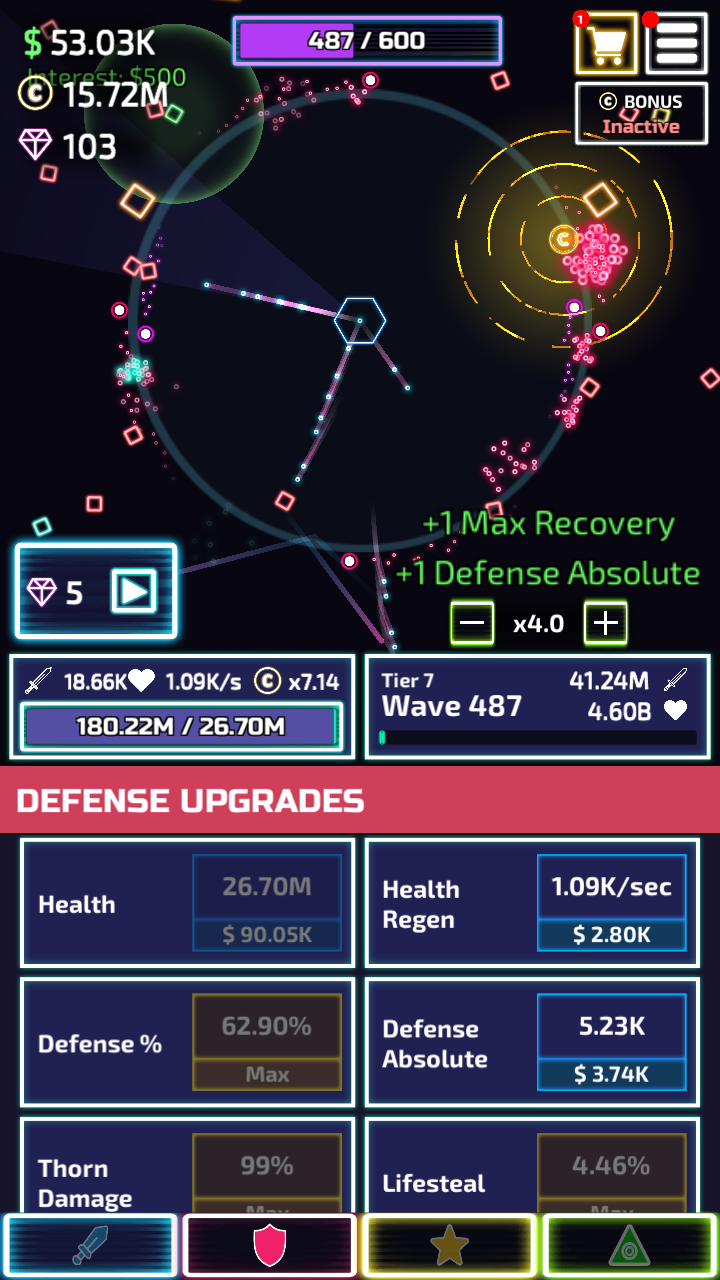B_Gem_Ad: (14, 540, 181, 638)
B_Menu_Action_Required: (638, 7, 704, 72)
B_Menu_Closed: (572, 10, 708, 74)
B_Shop_Action_Required: (570, 14, 637, 78)
B_Slot: (17, 837, 353, 959), (366, 840, 696, 962), (366, 978, 696, 1100), (21, 978, 353, 1099), (365, 1119, 695, 1209), (20, 1120, 347, 1210)
B_Slot_Button: (188, 859, 345, 954), (532, 997, 688, 1092), (534, 857, 688, 953), (189, 999, 343, 1090), (533, 1136, 688, 1209), (187, 1136, 340, 1208)
B_Slot_Label: (369, 1008, 505, 1080), (23, 1148, 146, 1214), (29, 1021, 173, 1072), (372, 870, 473, 937), (369, 1155, 501, 1204), (26, 879, 139, 927)
B_Slot_Maxed: (186, 994, 344, 1094), (531, 1134, 689, 1209), (185, 1135, 341, 1208)
B_Slot_Price: (206, 918, 329, 948), (558, 917, 659, 953), (558, 1057, 656, 1090)
B_Slot_TooExpensive: (183, 856, 344, 956)
B_Slot_Value: (544, 868, 678, 906), (550, 1144, 665, 1184), (204, 868, 326, 905), (204, 1007, 326, 1043), (555, 1006, 657, 1043), (211, 1147, 310, 1183)
B_Tab_Defense: (3, 768, 718, 835)
